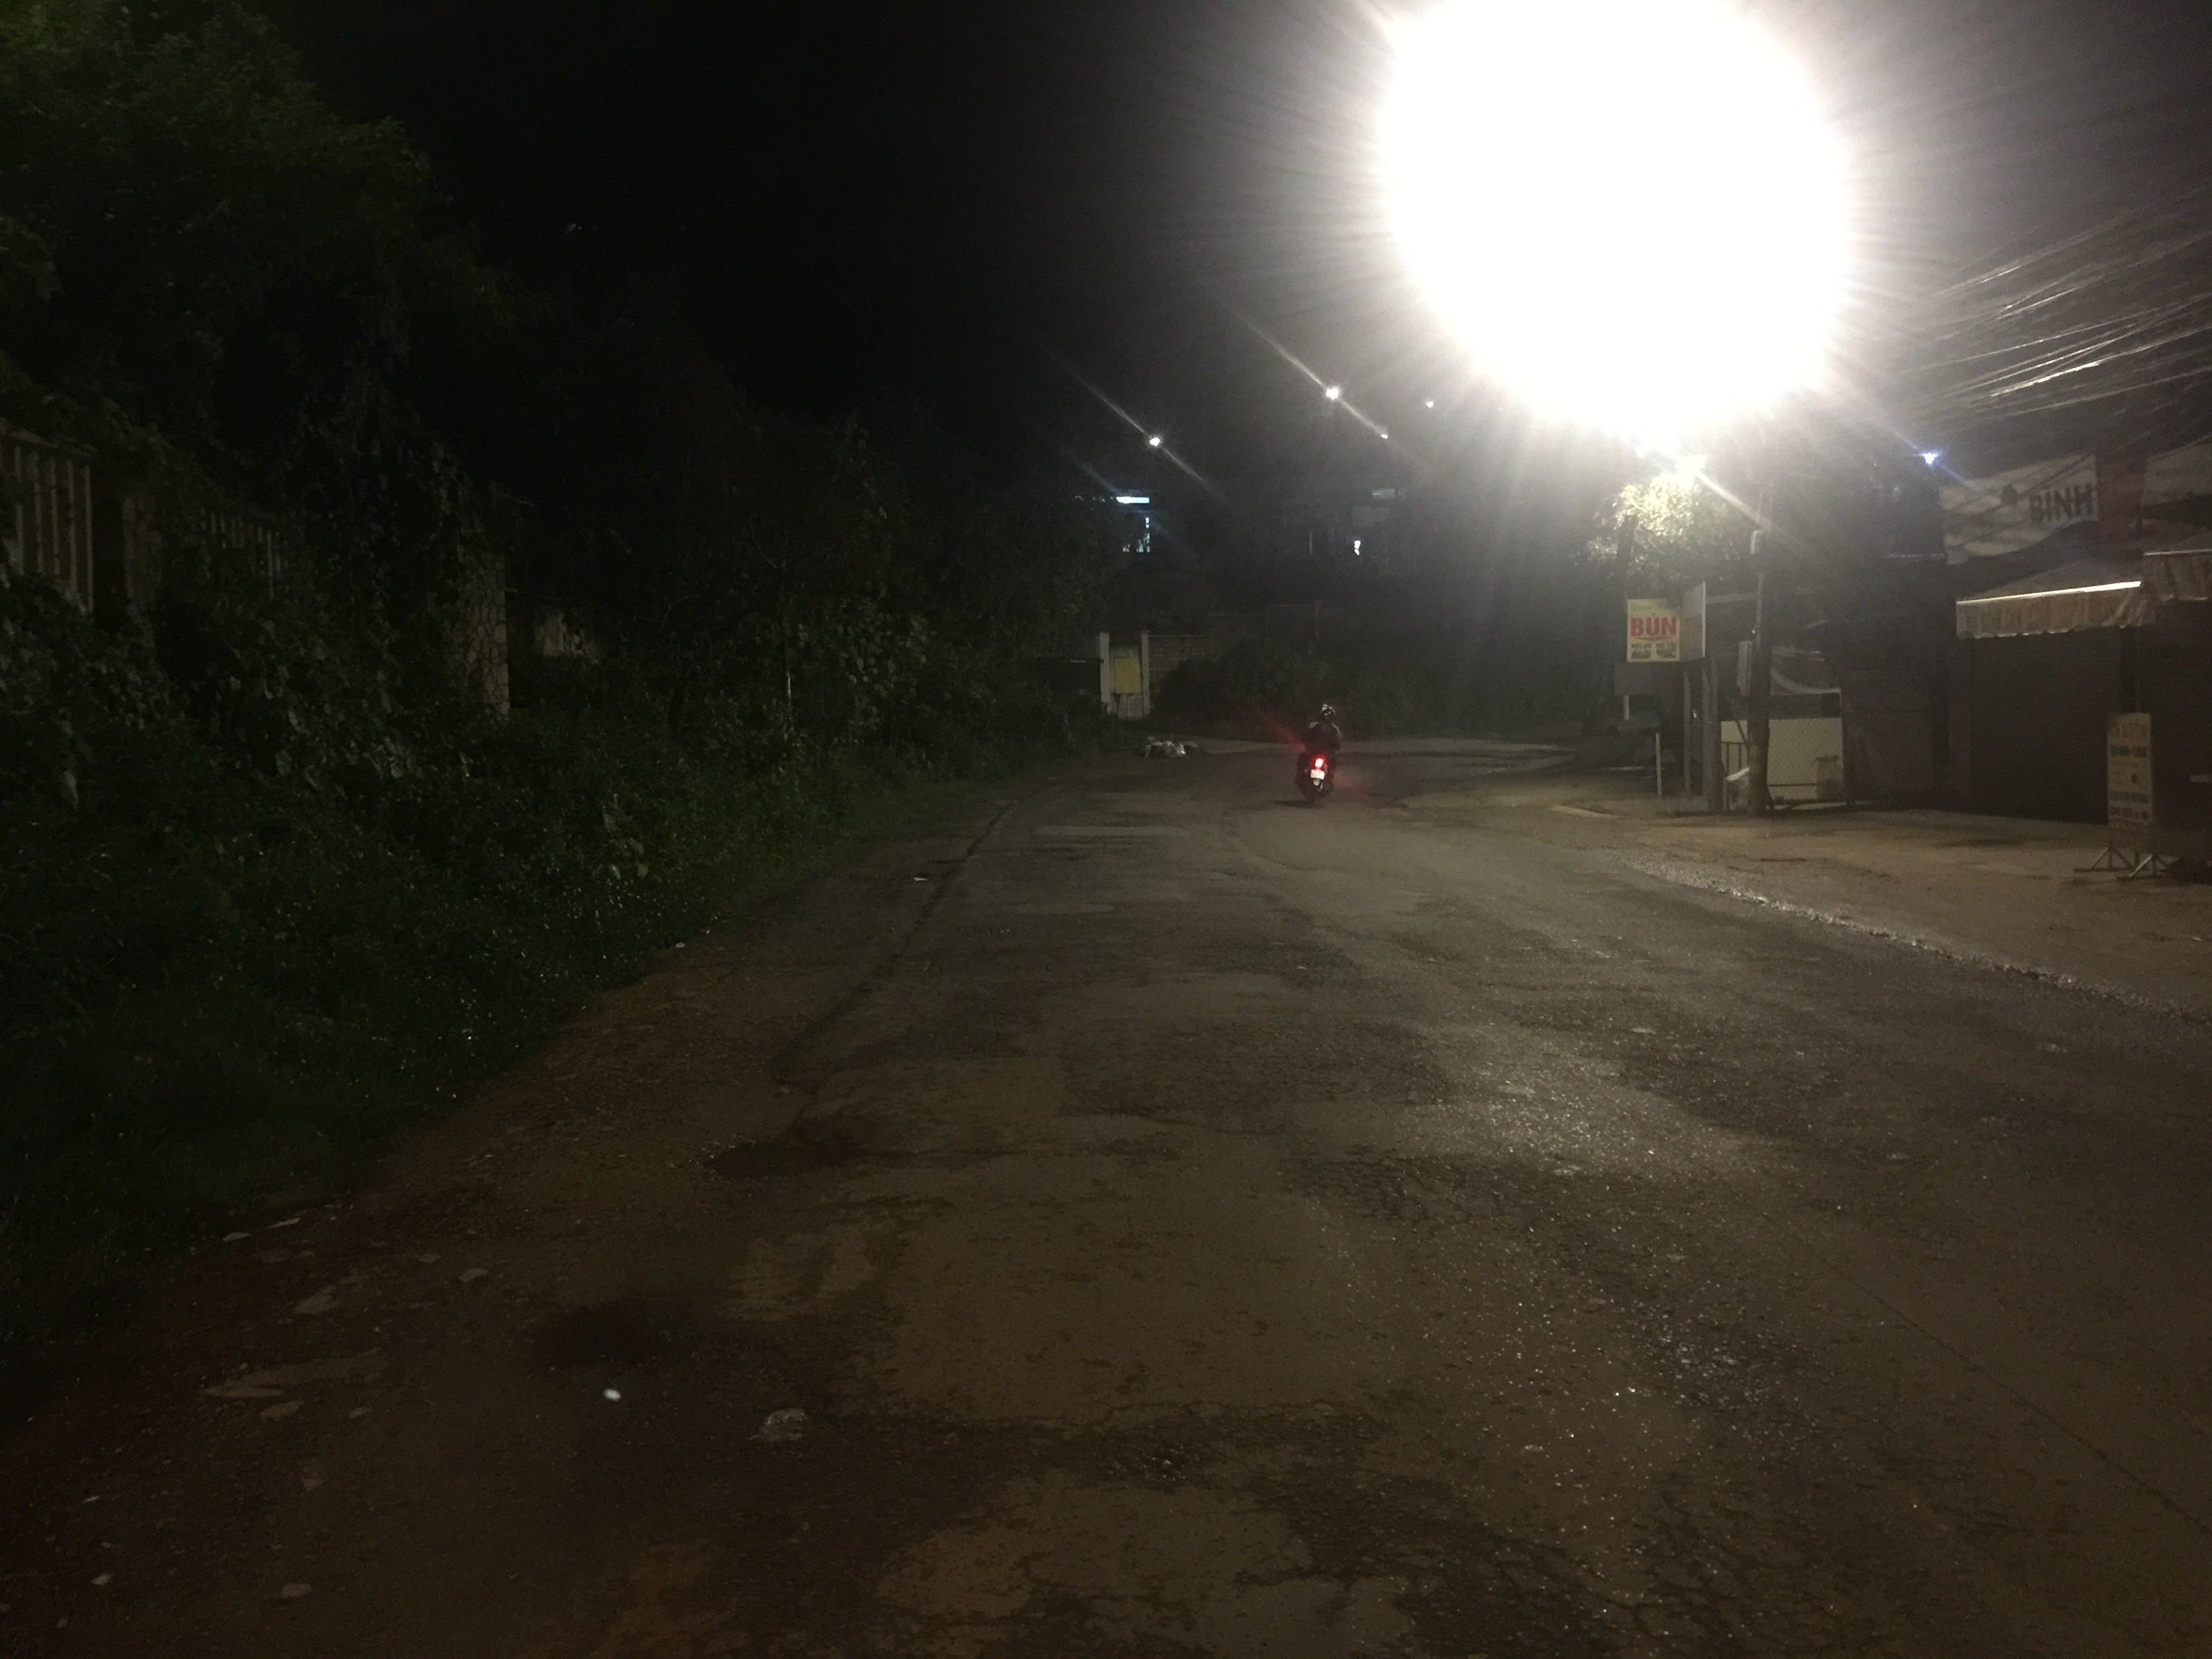hole: (529, 1298, 674, 1368), (702, 1133, 850, 1188)
